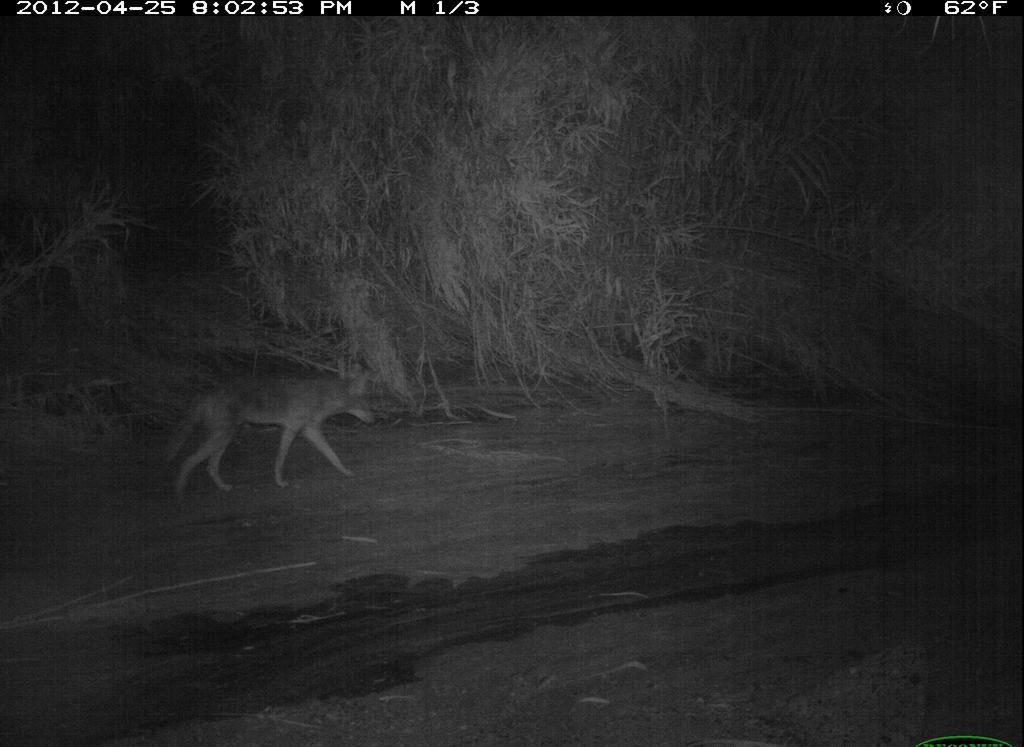coyote: (145, 363, 381, 506)
